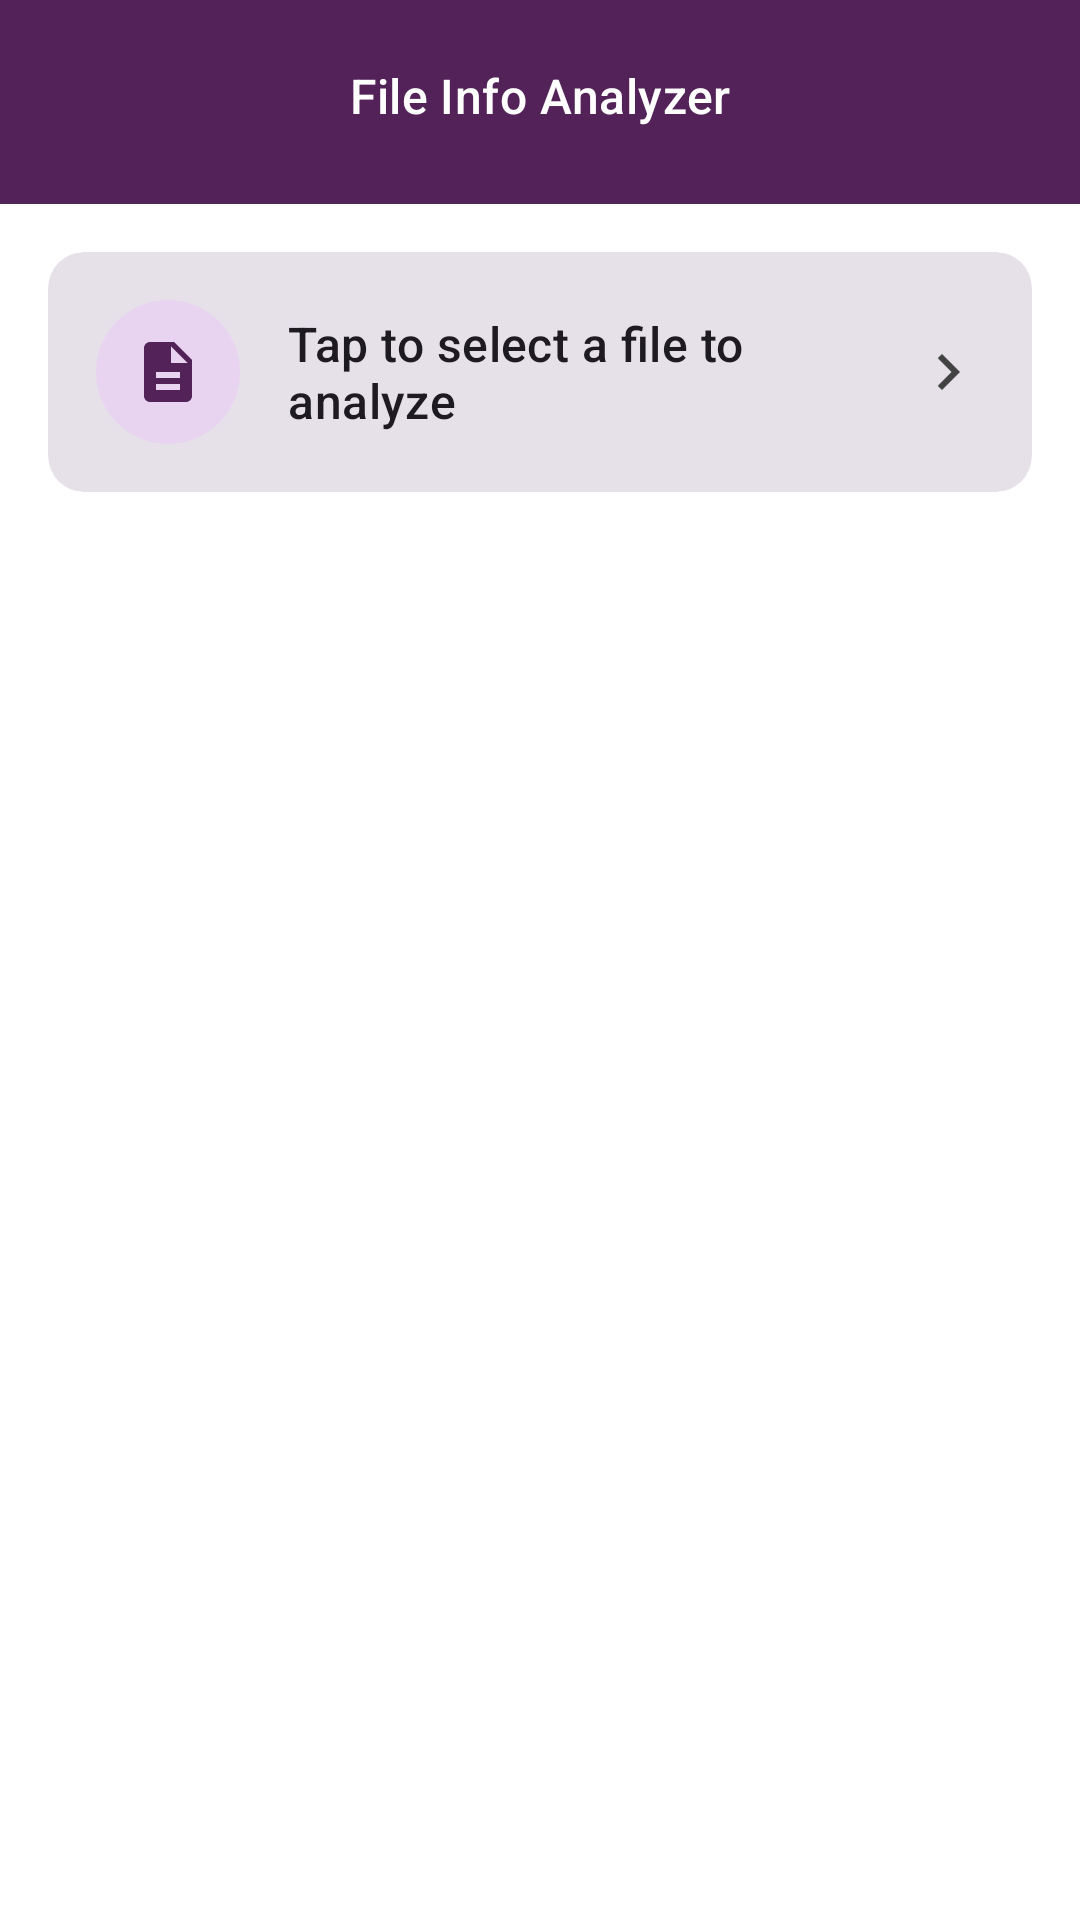

Icon bounding boxes for this 1080*1920 phone screenshot, format (x1, y1, x2, y2):
file document: (144, 342, 192, 402)
navigate next: (938, 354, 960, 390)
